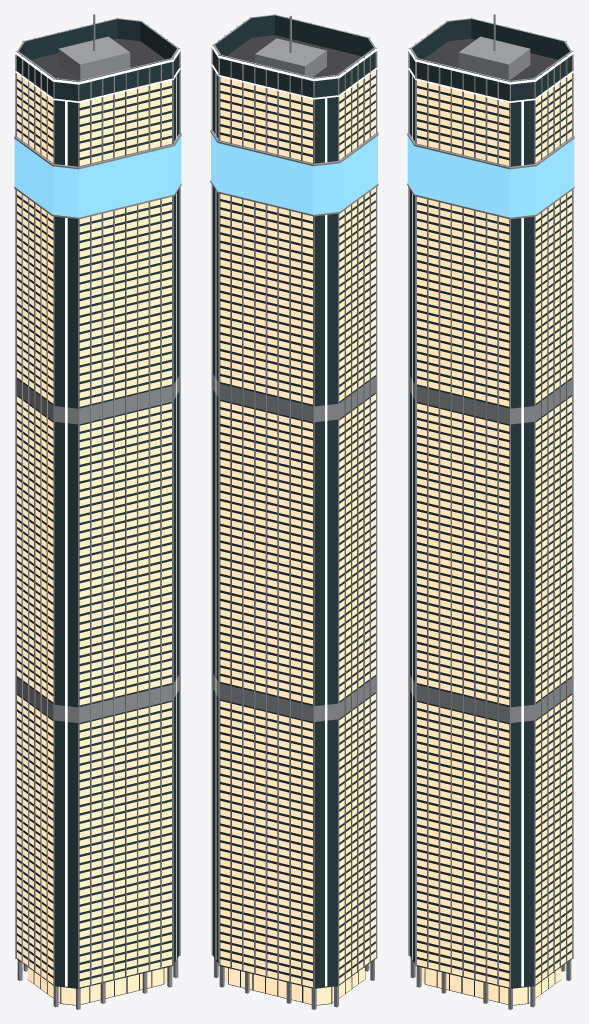
Rendered from glass-led.glb.
3 views of the same model, side by side, from view 1: azimuth 30°, elevation 25°; view 2: azimuth 150°, elevation 25°; view 3: azimuth 330°, elevation 25° (orthographic).
Parts seen in each view (by area): view 1: Windows, Body_Glass, Body_Metal, LED, Accent, Body_Roof, Crown; view 2: Windows, Body_Glass, Body_Metal, LED, Accent, Body_Roof, Crown; view 3: Windows, Body_Glass, Body_Metal, LED, Accent, Body_Roof, Crown.
Boxes of the visible parts, x1,y1,x2,y2 form: Windows: (17, 74, 171, 1004); Body_Glass: (17, 19, 178, 1005); Body_Metal: (14, 14, 181, 1009); LED: (14, 136, 181, 217); Accent: (65, 76, 176, 986); Body_Roof: (31, 38, 164, 80); Crown: (15, 18, 180, 102); Windows: (220, 70, 375, 1004); Body_Glass: (213, 15, 375, 1005); Body_Metal: (210, 14, 378, 1009); LED: (211, 133, 377, 214); Accent: (215, 72, 327, 986); Body_Roof: (227, 35, 361, 77); Crown: (211, 14, 377, 99); Windows: (417, 74, 571, 1004); Body_Glass: (410, 19, 571, 1005); Body_Metal: (407, 14, 574, 1009); LED: (407, 136, 574, 217); Accent: (412, 76, 523, 986); Body_Roof: (424, 38, 557, 80); Crown: (408, 18, 573, 102).
Size of the model in its own units: 6.2 by 44.04 by 4.8.
